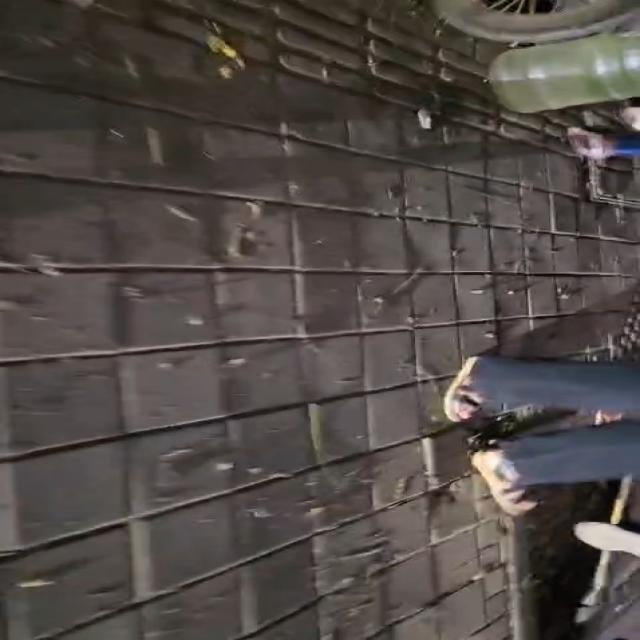bike: (445, 356, 639, 515), (568, 106, 639, 161)
